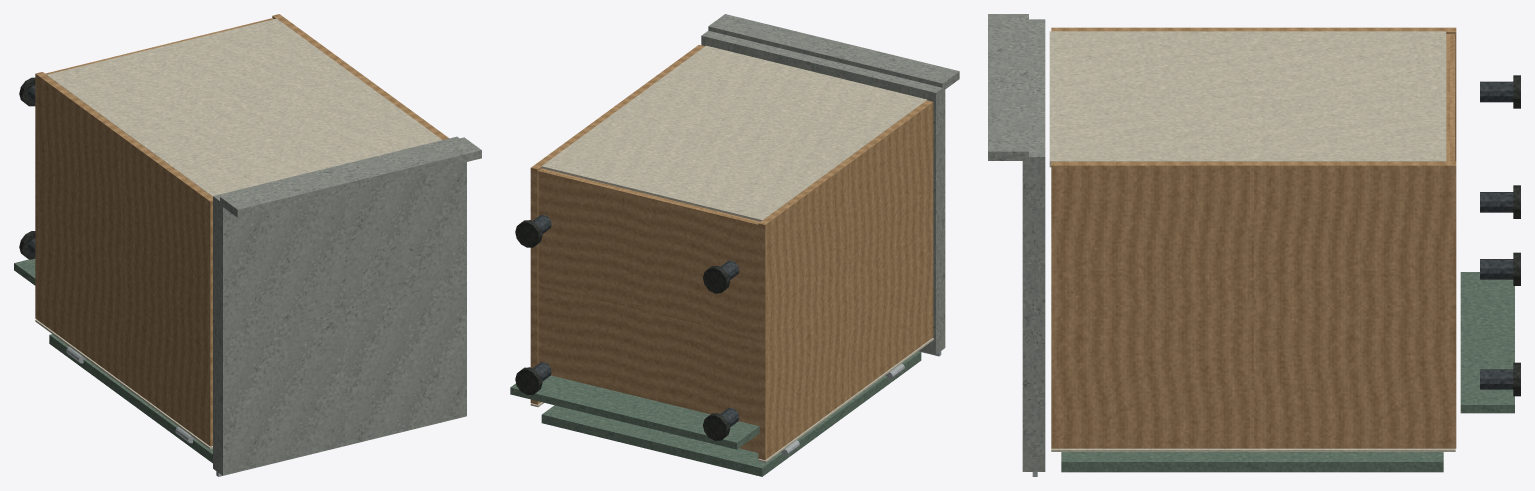
File: PROJECT_Z_Kitchen_BaseStorage600_Prefab.glb
The picture shows the model from 3 angles, left to right: view 1: azimuth 30°, elevation 25°; view 2: azimuth 150°, elevation 25°; view 3: azimuth 270°, elevation 25°; orthographic projection. The views are drawn at different scales.
Visible parts, largest first — view 1: BASE_STORAGE_600_QuartzWorktop, BASE_STORAGE_600_CarcassSide_L, BASE_STORAGE_600_CabinetBack, BASE_STORAGE_600_QuartzRearUpstand, BASE_STORAGE_600_Single_DoorLeaf, BASE_STORAGE_600_CarcassSide_R, BASE_STORAGE_600_EdgeBand_L, BASE_STORAGE_600_CabinetBottom; view 2: BASE_STORAGE_600_CabinetBottom, BASE_STORAGE_600_CarcassSide_L, BASE_STORAGE_600_CabinetBack, BASE_STORAGE_600_QuartzWorktop, BASE_STORAGE_600_Single_DoorLeaf, BASE_STORAGE_600_RecessedToeKick, BASE_STORAGE_600_QuartzRearUpstand, BASE_STORAGE_600_CarcassSide_R, BASE_STORAGE_600_EdgeBand_L, BASE_STORAGE_600_Foot_R_1, BASE_STORAGE_600_Foot_L_1, BASE_STORAGE_600_Foot_R_0 (+1 smaller); view 3: BASE_STORAGE_600_CarcassSide_R, BASE_STORAGE_600_CabinetBack, BASE_STORAGE_600_QuartzWorktop, BASE_STORAGE_600_Single_DoorLeaf, BASE_STORAGE_600_RecessedToeKick, BASE_STORAGE_600_QuartzRearUpstand, BASE_STORAGE_600_CarcassSide_L, BASE_STORAGE_600_EdgeBand_R, BASE_STORAGE_600_CabinetBottom, BASE_STORAGE_600_Leveller_L_1, BASE_STORAGE_600_Leveller_L_0, BASE_STORAGE_600_Leveller_R_0 (+1 smaller).
Part boxes in pixels (<box>): BASE_STORAGE_600_QuartzWorktop: <box>213,136,466,475</box>; BASE_STORAGE_600_CarcassSide_L: <box>35,72,212,446</box>; BASE_STORAGE_600_CabinetBack: <box>47,18,442,196</box>; BASE_STORAGE_600_QuartzRearUpstand: <box>220,137,481,217</box>; BASE_STORAGE_600_Single_DoorLeaf: <box>49,334,212,463</box>; BASE_STORAGE_600_CarcassSide_R: <box>272,14,448,139</box>; BASE_STORAGE_600_EdgeBand_L: <box>35,319,212,449</box>; BASE_STORAGE_600_CabinetBottom: <box>45,18,273,74</box>; BASE_STORAGE_600_CabinetBottom: <box>538,168,759,452</box>; BASE_STORAGE_600_CarcassSide_L: <box>758,100,933,459</box>; BASE_STORAGE_600_CabinetBack: <box>541,45,926,221</box>; BASE_STORAGE_600_QuartzWorktop: <box>701,30,945,354</box>; BASE_STORAGE_600_Single_DoorLeaf: <box>541,351,921,476</box>; BASE_STORAGE_600_RecessedToeKick: <box>510,375,759,449</box>; BASE_STORAGE_600_QuartzRearUpstand: <box>708,14,959,90</box>; BASE_STORAGE_600_CarcassSide_R: <box>530,45,704,404</box>; BASE_STORAGE_600_EdgeBand_L: <box>758,338,933,462</box>; BASE_STORAGE_600_Foot_R_1: <box>515,220,542,247</box>; BASE_STORAGE_600_Foot_L_1: <box>703,266,730,293</box>; BASE_STORAGE_600_Foot_R_0: <box>515,367,542,394</box>; BASE_STORAGE_600_CarcassSide_R: <box>1051,161,1456,448</box>; BASE_STORAGE_600_CabinetBack: <box>1049,31,1446,167</box>; BASE_STORAGE_600_QuartzWorktop: <box>1022,19,1045,471</box>; BASE_STORAGE_600_Single_DoorLeaf: <box>1061,452,1443,472</box>; BASE_STORAGE_600_RecessedToeKick: <box>1460,272,1514,413</box>; BASE_STORAGE_600_QuartzRearUpstand: <box>988,14,1028,160</box>; BASE_STORAGE_600_CarcassSide_L: <box>1051,27,1456,161</box>; BASE_STORAGE_600_EdgeBand_R: <box>1051,448,1455,451</box>; BASE_STORAGE_600_CabinetBottom: <box>1446,34,1454,161</box>; BASE_STORAGE_600_Leveller_L_1: <box>1480,81,1513,102</box>; BASE_STORAGE_600_Leveller_L_0: <box>1480,259,1513,279</box>; BASE_STORAGE_600_Leveller_R_0: <box>1480,369,1513,389</box>.
Size of the model in its own units: 0.602 by 0.7155 by 0.9805.
Materials: 8 (8 with a texture image).
